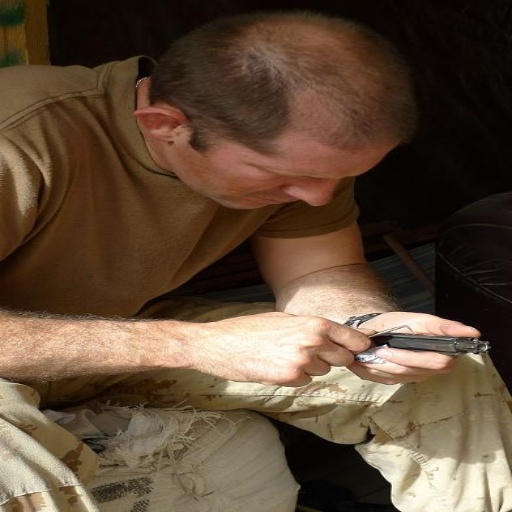hand: (210, 310, 380, 392), (346, 310, 483, 384)
